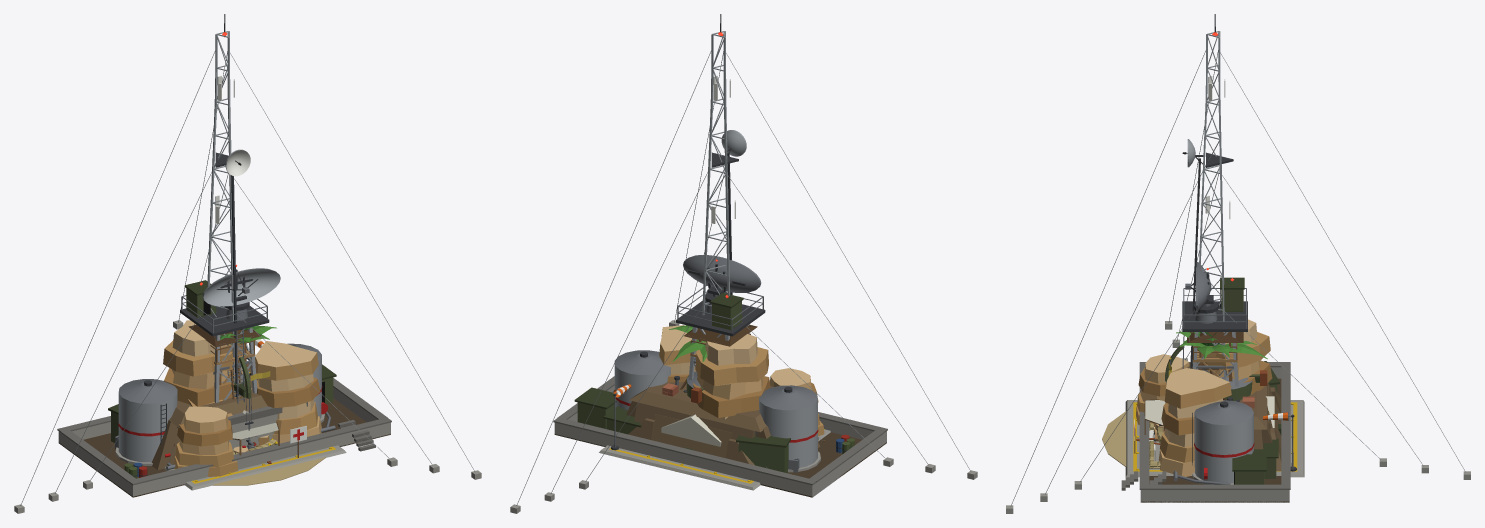
The model's file is battle.glb.
3 renders of one model, left to right at view 1: azimuth 30°, elevation 25°; view 2: azimuth 150°, elevation 25°; view 3: azimuth 270°, elevation 25°, orthographic.
Parts seen in each view (by area): view 1: fuel_depot_body, dune_rock_cluster_body, radio_mast_body, radar_station_body, bunker_large_body, radar_dish, helipad_body, watch_tower_wood_body, field_hospital_body; view 2: fuel_depot_body, radio_mast_body, dune_rock_cluster_body, radar_station_body, bunker_large_body, radar_dish, ammo_dump_body, helipad_body, field_hospital_body, watch_tower_wood_body; view 3: fuel_depot_body, dune_rock_cluster_body, radio_mast_body, radar_station_body, helipad_body, bunker_large_body, watch_tower_wood_body, palm_tree_body, field_hospital_body, radar_dish, ammo_dump_body.
Part boxes in pixels (left/top/right/bottom): fuel_depot_body: left=57, top=343, right=391, bottom=497; dune_rock_cluster_body: left=163, top=320, right=325, bottom=485; radio_mast_body: left=14, top=14, right=481, bottom=513; radar_station_body: left=180, top=280, right=269, bottom=403; bunker_large_body: left=151, top=366, right=307, bottom=469; radar_dish: left=202, top=264, right=280, bottom=306; helipad_body: left=164, top=445, right=346, bottom=490; watch_tower_wood_body: left=188, top=324, right=261, bottom=399; field_hospital_body: left=232, top=410, right=306, bottom=457; fuel_depot_body: left=553, top=350, right=887, bottom=497; radio_mast_body: left=510, top=14, right=977, bottom=513; dune_rock_cluster_body: left=659, top=325, right=824, bottom=471; radar_station_body: left=603, top=285, right=765, bottom=434; bunker_large_body: left=626, top=376, right=820, bottom=458; radar_dish: left=683, top=255, right=761, bottom=297; ammo_dump_body: left=628, top=390, right=754, bottom=465; helipad_body: left=599, top=393, right=830, bottom=490; field_hospital_body: left=661, top=414, right=721, bottom=446; watch_tower_wood_body: left=684, top=324, right=757, bottom=375; fuel_depot_body: left=1121, top=362, right=1290, bottom=502; dune_rock_cluster_body: left=1102, top=319, right=1304, bottom=476; radio_mast_body: left=1006, top=14, right=1470, bottom=513; radar_station_body: left=1155, top=277, right=1278, bottom=478; helipad_body: left=1125, top=400, right=1304, bottom=477; bunker_large_body: left=1149, top=362, right=1272, bottom=468; watch_tower_wood_body: left=1187, top=332, right=1243, bottom=381; palm_tree_body: left=1176, top=331, right=1267, bottom=374; field_hospital_body: left=1134, top=396, right=1274, bottom=453; radar_dish: left=1185, top=262, right=1213, bottom=311; ammo_dump_body: left=1149, top=385, right=1281, bottom=471.
Size of the model in its own units: 29.8 by 31.6 by 31.2.
